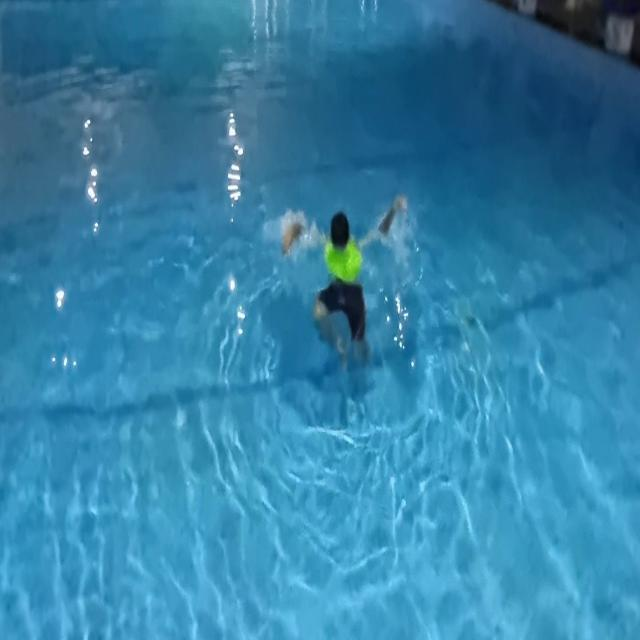Drowning: (272, 153, 443, 390)
